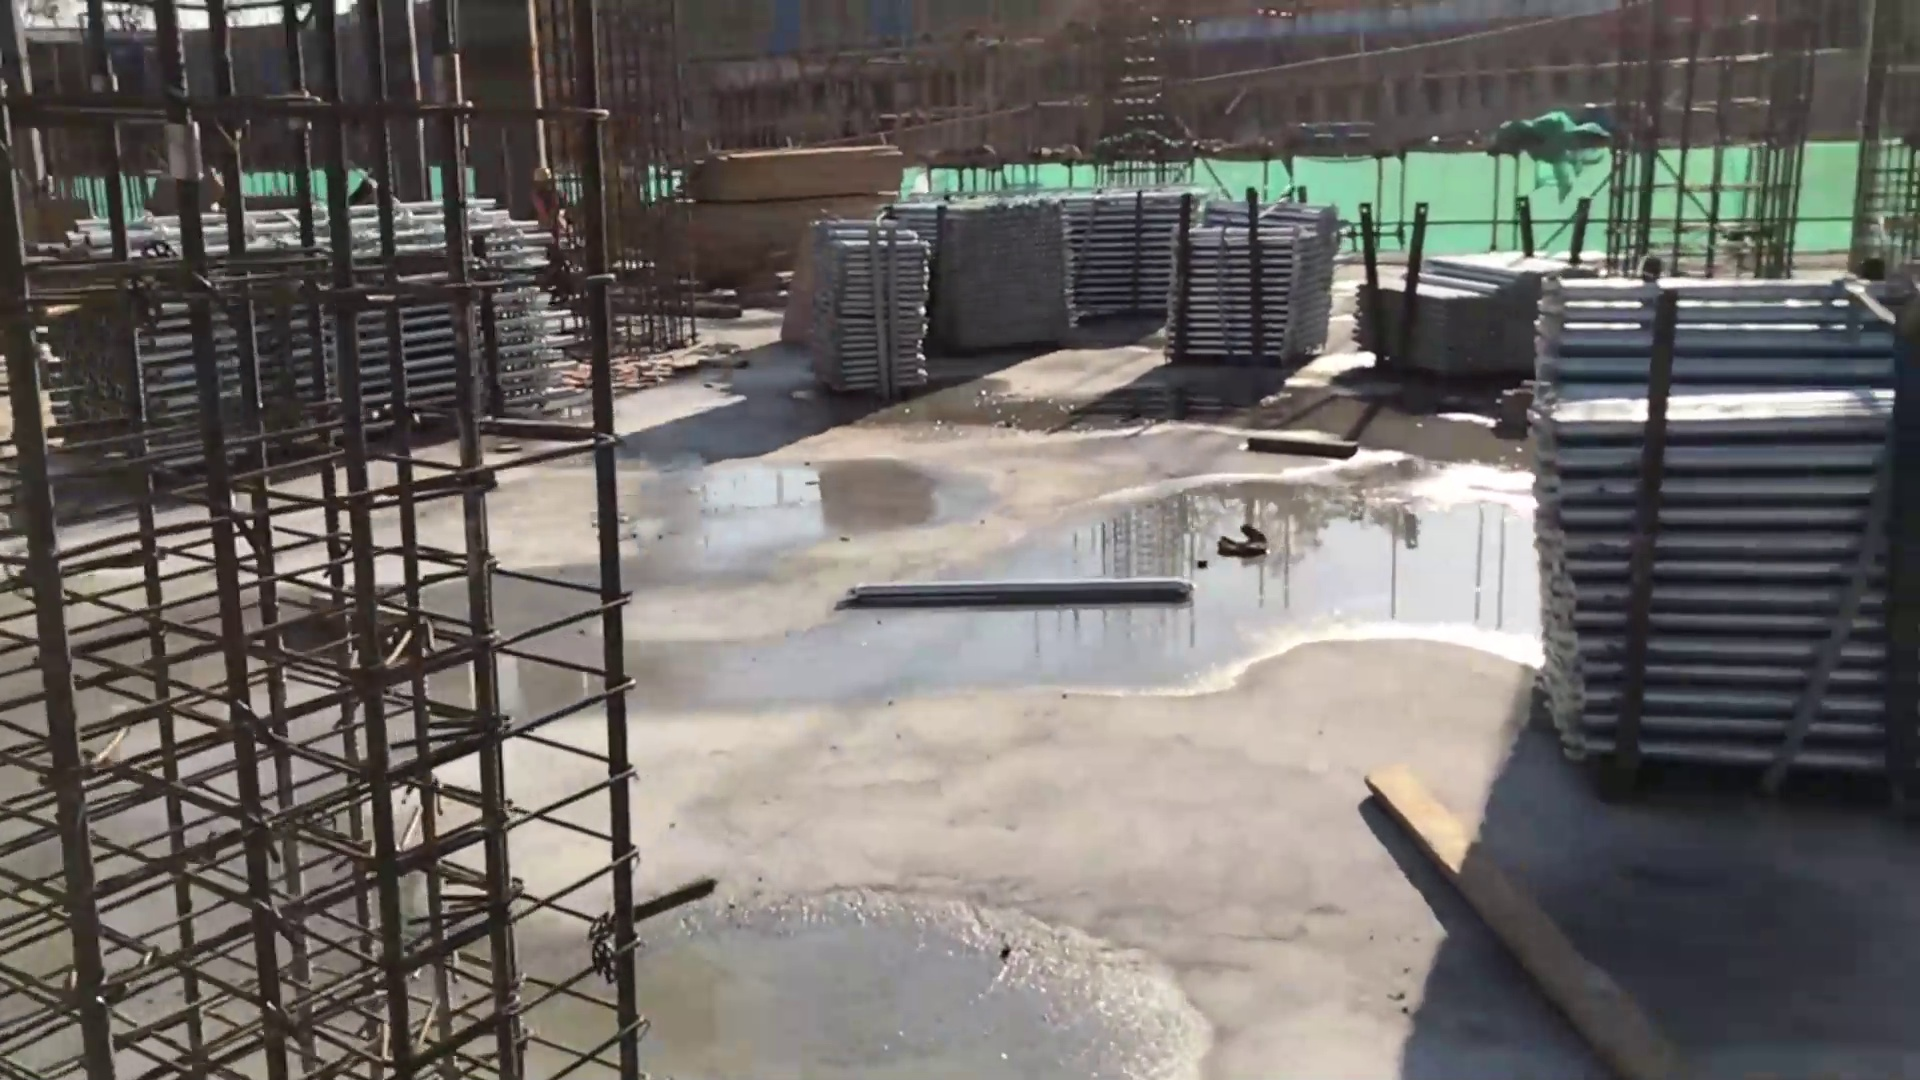scaffold: (1527, 284, 1920, 774), (70, 207, 574, 460), (819, 199, 1338, 392)
